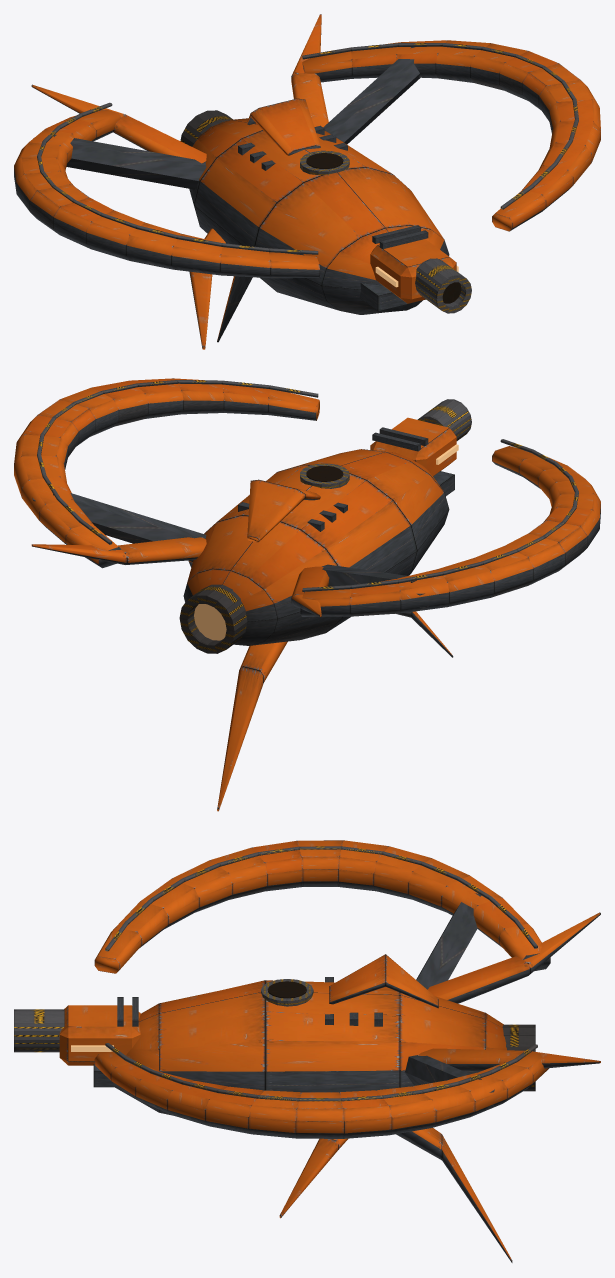
The model's file is pioneer-saturn-l10-laser.glb.
3 renders of one model, top to bottom at view 1: azimuth 30°, elevation 25°; view 2: azimuth 150°, elevation 25°; view 3: azimuth 270°, elevation 25°, orthographic. The views are drawn at different scales.
Visible parts, largest first — view 1: Drone; view 2: Drone; view 3: Drone.
Boxes of the visible parts, x1=… form: Drone: x1=14, y1=14, x2=600, y2=349; Drone: x1=14, y1=378, x2=600, y2=811; Drone: x1=14, y1=840, x2=600, y2=1262.
Size of the model in its own units: 1.85 by 0.9361 by 1.67.
3 materials, 3 textured.
